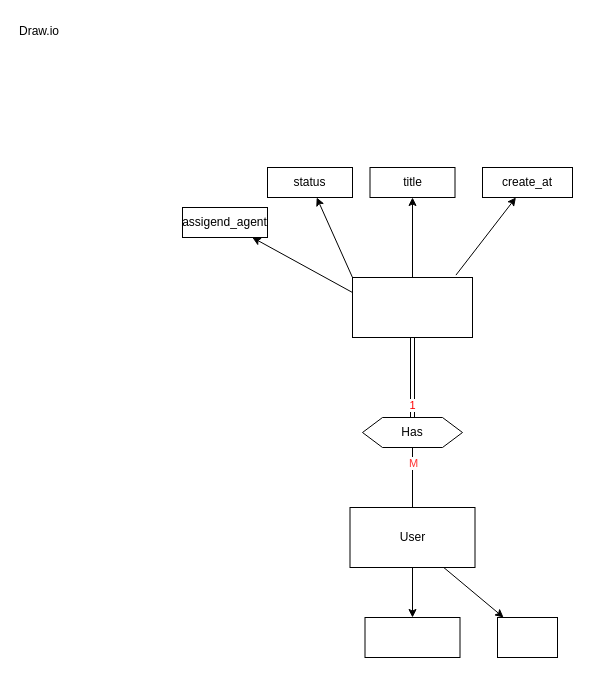
Image size: 590x675. Some labels were removed from this diagram. Each missing label, with the centre of its shape:
role: the point at 527,637
Tickets: the point at 412,307
Username: the point at 412,637
